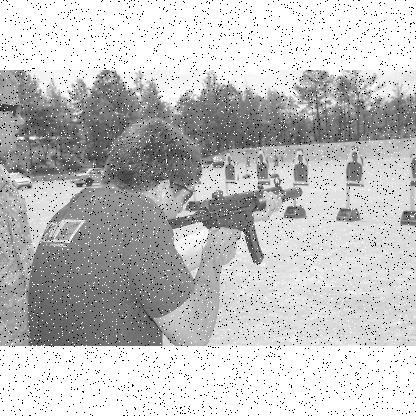gun: (166, 176, 302, 264)
